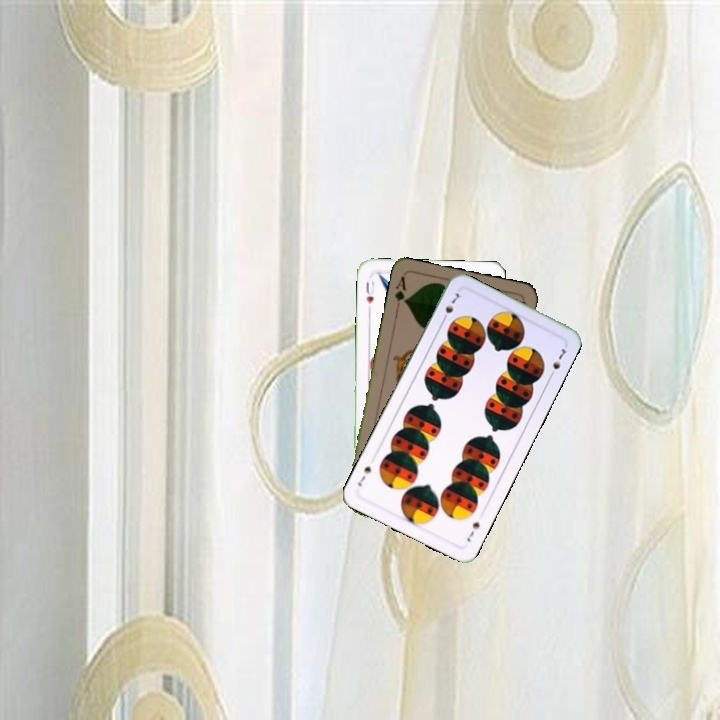GA: (391, 272, 409, 313)
HU: (362, 278, 377, 306)
S7: (438, 289, 464, 325), (462, 518, 482, 545)
